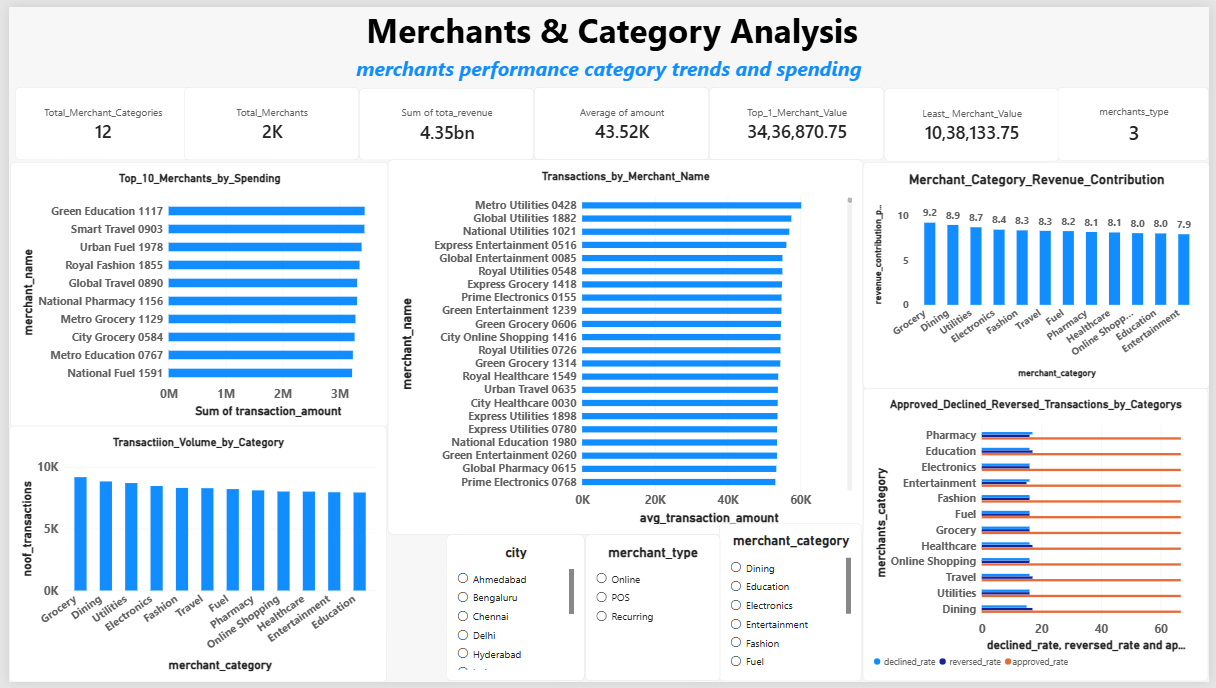

What the dashboard file says about the page in this screenshot:
{"tool":"powerbi","page":{"name":"Merchant & Category Analysis","canvas":[1920,1080],"ordinal":3},"visuals":[{"type":"cardVisual","fields":{"Data":["Count(public merchants.category)"]},"box":[10,127.5,280,117.5],"z":0},{"type":"cardVisual","fields":{"Data":["Count(public merchants.merchant_name)"]},"box":[280,127.5,280,117.5],"z":1000},{"type":"cardVisual","fields":{"Data":["Max(public top_merchants_spending.transaction_amount)"]},"box":[1120,127.5,280,117.5],"z":2000},{"type":"cardVisual","fields":{"Data":["Avg(public transactions.amount)"]},"box":[840,127.5,280,117.5],"z":3000},{"type":"cardVisual","fields":{"Data":["Sum(public monthly_transaction_amountss.tota_revenue)"]},"box":[560,130,280,115],"z":4000},{"type":"cardVisual","fields":{"Data":["Min(public top_merchants_spending.transaction_amount)"]},"box":[1400,130,280,117.5],"z":5000},{"type":"barChart","title":"Top_10_Merchants_by_Spending","fields":{"Category":["public top_merchants_spending.merchant_name"],"Y":["Sum(public top_merchants_spending.transaction_amount)"]},"box":[2.6,247.4,605,425],"z":6000},{"type":"columnChart","title":"Transactiion_Volume_by_Category","fields":{"Category":["public transactions_by_merchant_category.merchant_category"],"Y":["Sum(public transactions_by_merchant_category.noof_transactions)"]},"box":[0,670,605,410],"z":7000},{"type":"clusteredBarChart","title":"Approved_Declined_Reversed_Transactions_by_Categorys","fields":{"Category":["public category_declined_rate (2).merchants_category"],"Y":["Sum(public category_declined_rate (2).declined_rate)","Sum(public category_reversed_rate (2).reversed_rate)","Sum(public decli_revers_approv_ratesss.approved_rate)"]},"box":[1365.8,610.5,552.6,468.4],"z":8000},{"type":"clusteredBarChart","title":"Transactions_by_Merchant_Name","fields":{"Category":["public merchant_avg_transaction_amount.merchant_name"],"Y":["Avg(public merchant_avg_transaction_amount.avg_transaction_amount)"]},"box":[605.3,244.7,760.5,600],"z":9000},{"type":"columnChart","title":"Merchant_Category_Revenue_Contribution","fields":{"Category":["public merchant_category_revenue_contribution.merchant_category"],"Y":["Sum(public merchant_category_revenue_contribution.revenue_contribution_percentage)"]},"box":[1365.8,247.4,555.3,363.2],"z":10000},{"type":"listSlicer","fields":{"Values":["public merchant_category_revenue_contribution.merchant_category"]},"box":[1136.8,826.3,228.9,252.6],"z":11000},{"type":"listSlicer","fields":{"Values":["public merchants.merchant_type"]},"box":[921.1,844.7,215.8,234.2],"z":12000},{"type":"textbox","box":[1738,640,182,370],"z":13000},{"type":"textbox","box":[0,75,1920,67.5],"z":14000},{"type":"textbox","box":[10,0,1910,75],"z":15000},{"type":"listSlicer","fields":{"Values":["public merchants.city"]},"box":[700,844.7,221.1,234.2],"z":16000},{"type":"cardVisual","fields":{"Data":["Count(public merchants.merchant_type)"]},"box":[1678.9,128.9,242.1,118.4],"z":16001}]}

Visuals, with their boxes in screenshot pixels (x1, y1, x2, y2), scaled from the page's 1920x1080 canvas onto the 1216x688 screenshot:
cardVisual - Count(public merchants.category): l=6, t=81, r=184, b=156
cardVisual - Count(public merchants.merchant_name): l=177, t=81, r=355, b=156
cardVisual - Max(public top_merchants_spending.transaction_amount): l=709, t=81, r=887, b=156
cardVisual - Avg(public transactions.amount): l=532, t=81, r=709, b=156
cardVisual - Sum(public monthly_transaction_amountss.tota_revenue): l=355, t=83, r=532, b=156
cardVisual - Min(public top_merchants_spending.transaction_amount): l=887, t=83, r=1064, b=158
"Top_10_Merchants_by_Spending" barChart: l=2, t=158, r=385, b=428
"Transactiion_Volume_by_Category" columnChart: l=0, t=427, r=383, b=687
"Approved_Declined_Reversed_Transactions_by_Categorys" clusteredBarChart: l=865, t=389, r=1215, b=687
"Transactions_by_Merchant_Name" clusteredBarChart: l=383, t=156, r=865, b=538
"Merchant_Category_Revenue_Contribution" columnChart: l=865, t=158, r=1215, b=389
listSlicer - public merchant_category_revenue_contribution.merchant_category: l=720, t=526, r=865, b=687
listSlicer - public merchants.merchant_type: l=583, t=538, r=720, b=687
textbox: l=1101, t=408, r=1215, b=643
textbox: l=0, t=48, r=1215, b=91
textbox: l=6, t=0, r=1215, b=48
listSlicer - public merchants.city: l=443, t=538, r=583, b=687
cardVisual - Count(public merchants.merchant_type): l=1063, t=82, r=1215, b=158
